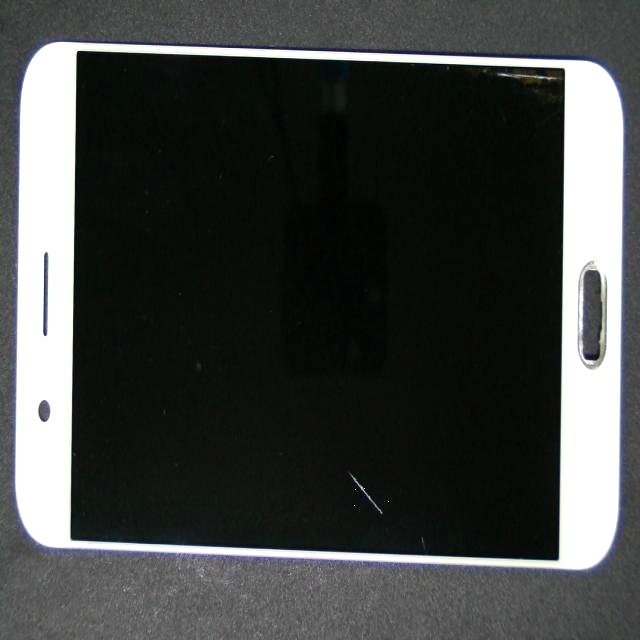scratch: (218, 260, 557, 640)
